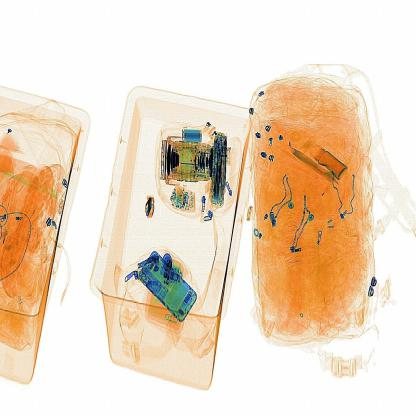wrench: (139, 192, 159, 228)
